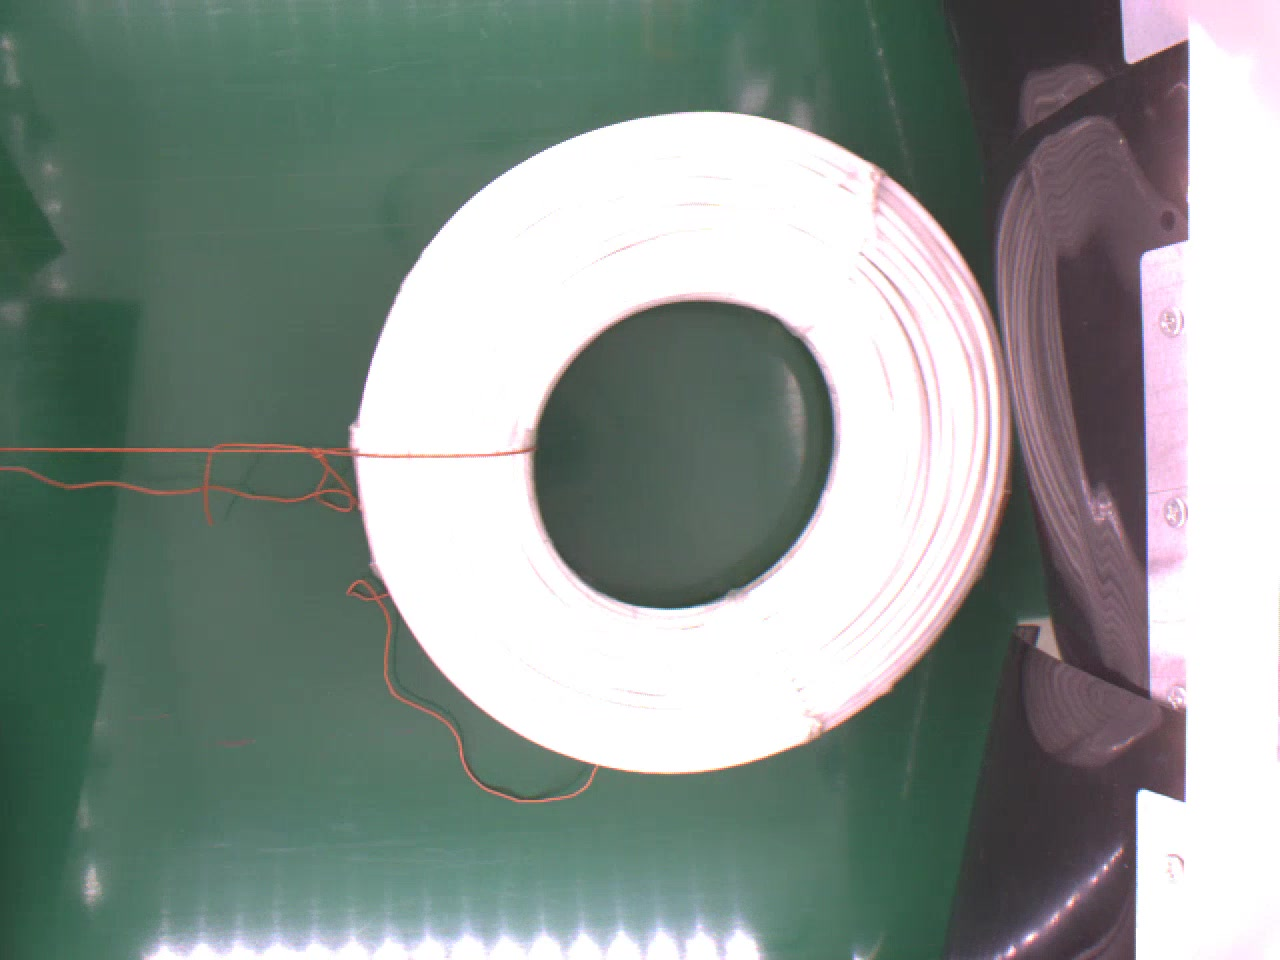white: (346, 103, 1017, 775)
